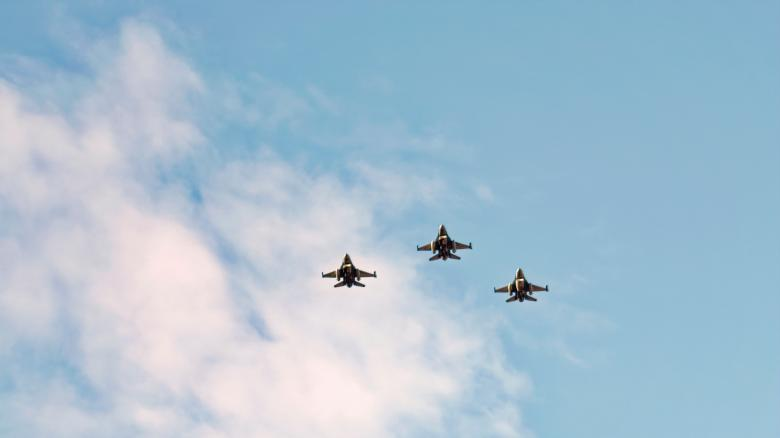plane: (321, 252, 377, 290), (417, 223, 473, 261), (493, 266, 550, 303)
